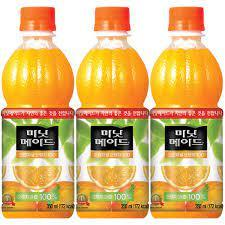minutemaid_org_orange: (148, 3, 224, 224), (76, 3, 151, 221), (3, 3, 77, 222)
